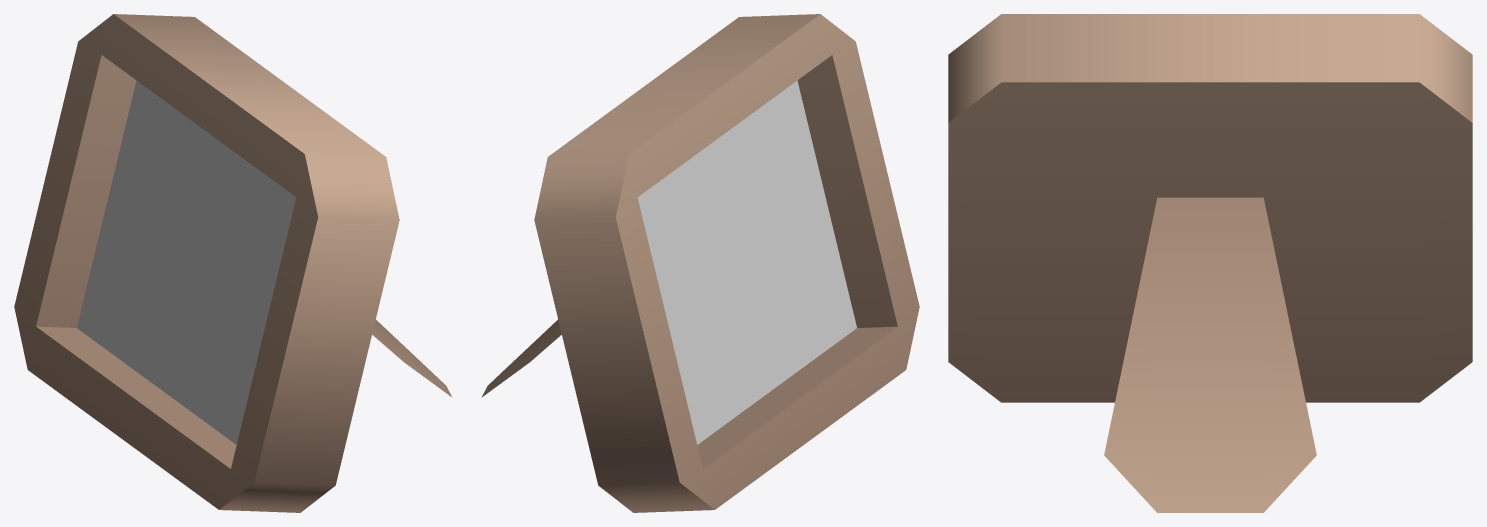
File: picture-frame-side_0.glb
The picture shows the model from 3 angles, left to right: view 1: azimuth 30°, elevation 25°; view 2: azimuth 150°, elevation 25°; view 3: azimuth 270°, elevation 25°; orthographic projection. The views are drawn at different scales.
Visible parts, largest first — view 1: picture-frame-side; view 2: picture-frame-side; view 3: picture-frame-side.
Boxes of the visible parts, x1,y1,x2,y2 form: picture-frame-side: [14, 14, 452, 512]; picture-frame-side: [481, 14, 919, 512]; picture-frame-side: [948, 14, 1472, 512].
Bounding box in the file's own units: 0.1808 × 0.2027 × 0.2465.
